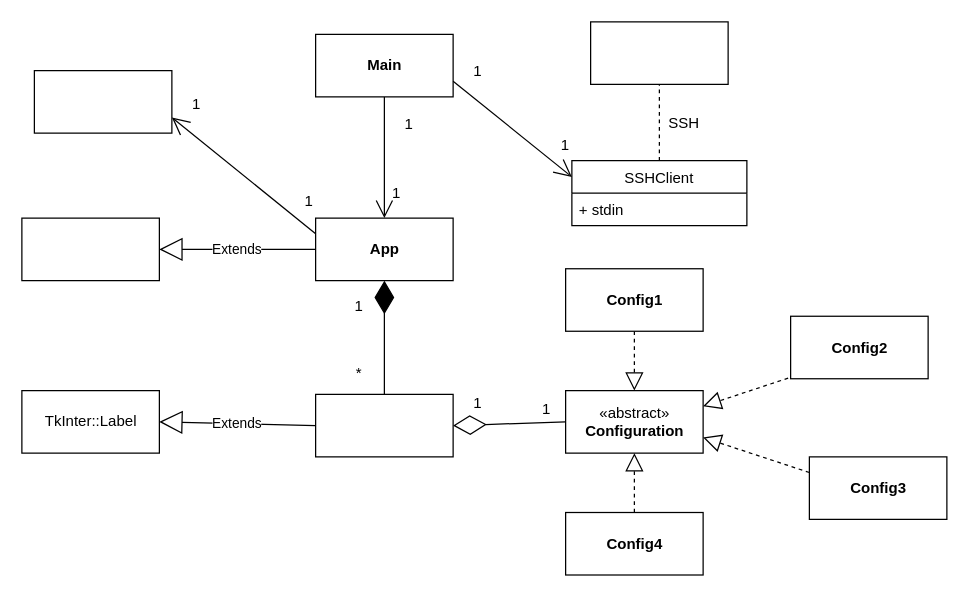
Some shapes in this 969 by 598 pixel diagram are drawn without their labels. Each missing label, with the centre of its shape:
"Nav" goes at (383,425).
"Reader" goes at (658,52).
"TkInter::Frame" goes at (90,249).
"VLC" goes at (102,101).
